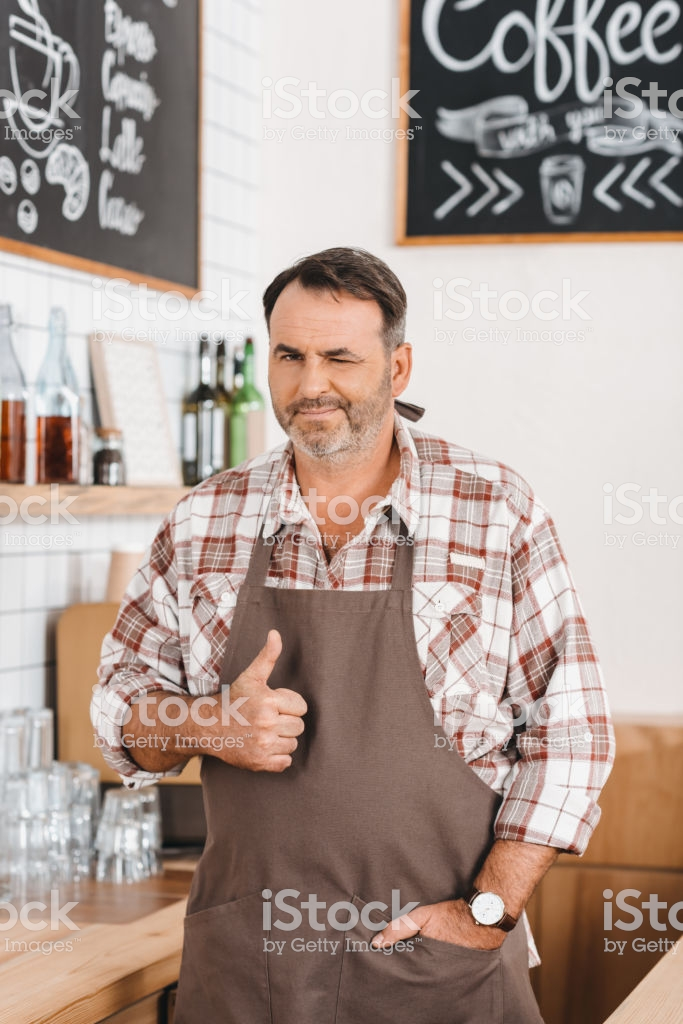thumbsup: (223, 628, 310, 774)
